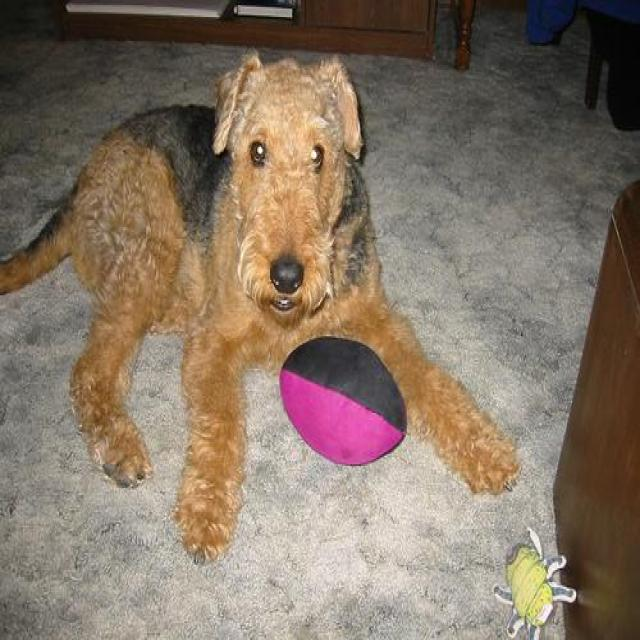airedale: (3, 51, 521, 565)
